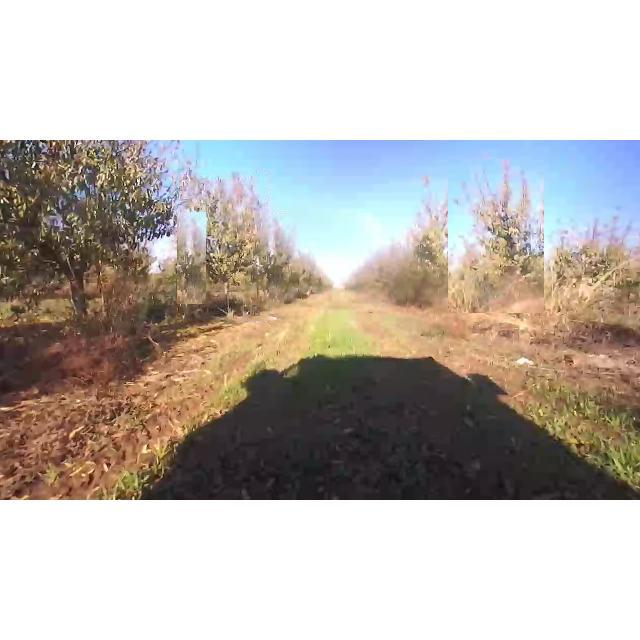direk: (0, 140, 193, 336), (448, 159, 544, 313), (177, 171, 269, 321), (240, 212, 288, 304)
